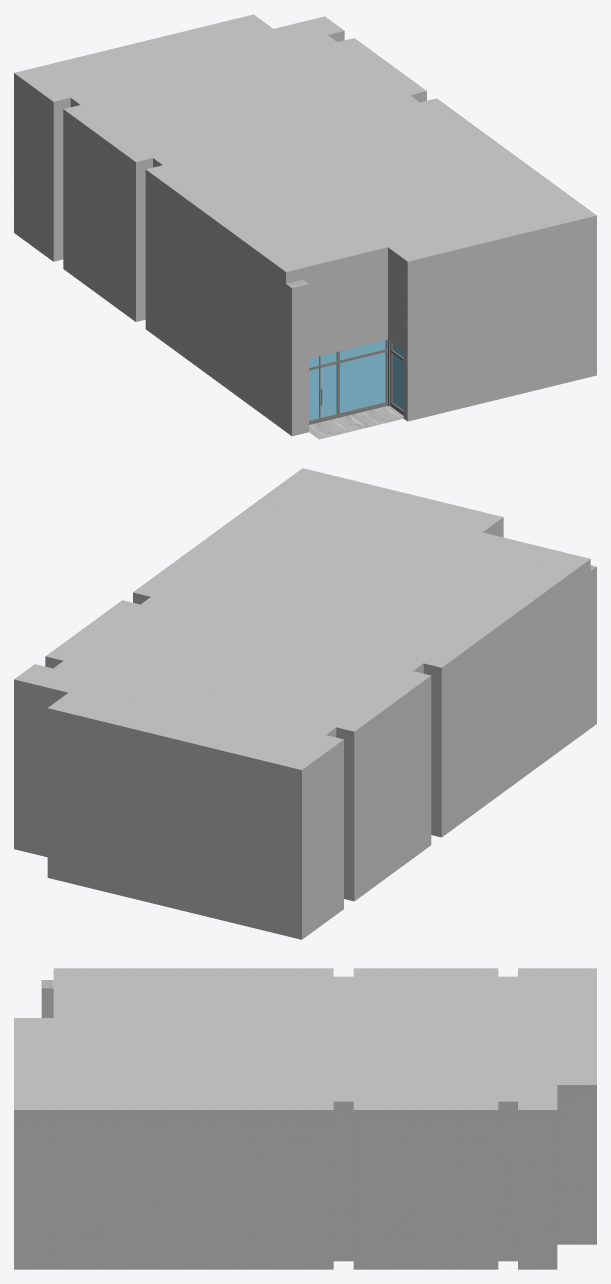
File: VirtualShop.FBX
3 renders of one model, top to bottom at view 1: azimuth 30°, elevation 25°; view 2: azimuth 150°, elevation 25°; view 3: azimuth 270°, elevation 25°, orthographic. The views are drawn at different scales.
Visible parts, largest first — view 1: Roof, Wall_Exterior, Glass_01, Doors, Floor; view 2: Roof, Wall_Exterior; view 3: Wall_Exterior, Roof.
Boxes of the visible parts, x1,y1,x2,y2 form: Roof: (14, 14, 596, 283); Wall_Exterior: (14, 85, 596, 436); Glass_01: (309, 340, 403, 420); Doors: (309, 339, 403, 424); Floor: (309, 406, 403, 439); Roof: (14, 468, 590, 782); Wall_Exterior: (14, 530, 596, 939); Wall_Exterior: (14, 980, 596, 1269); Roof: (14, 968, 596, 1121).
Size of the model in its own units: 20.58 by 10.81 by 35.72.
